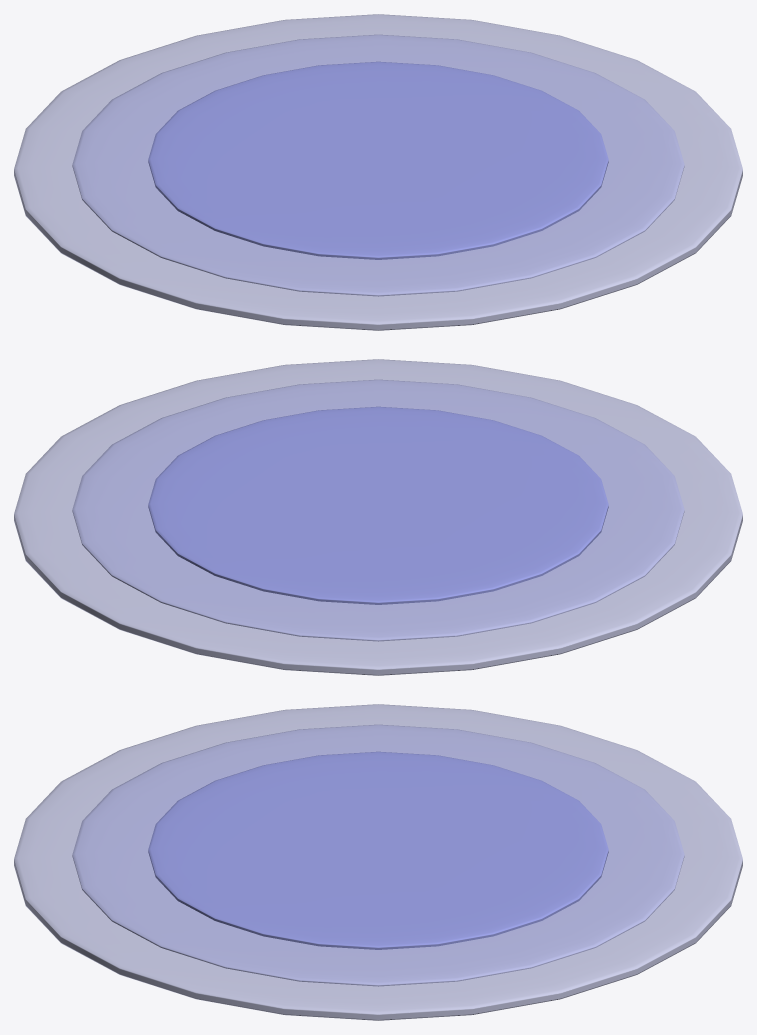
File: Rug.fbx
3 renders of one model, top to bottom at view 1: azimuth 30°, elevation 25°; view 2: azimuth 150°, elevation 25°; view 3: azimuth 270°, elevation 25°, orthographic.
Parts seen in each view (by area): view 1: pCylinder3, pCylinder1, pCylinder2; view 2: pCylinder3, pCylinder1, pCylinder2; view 3: pCylinder3, pCylinder1, pCylinder2.
Part boxes in pixels (left/top/right/bottom): pCylinder3: left=148, top=61, right=608, bottom=259; pCylinder1: left=14, top=14, right=742, bottom=330; pCylinder2: left=72, top=34, right=684, bottom=296; pCylinder3: left=148, top=406, right=608, bottom=604; pCylinder1: left=14, top=359, right=742, bottom=675; pCylinder2: left=72, top=379, right=684, bottom=641; pCylinder3: left=148, top=751, right=608, bottom=949; pCylinder1: left=14, top=704, right=742, bottom=1020; pCylinder2: left=72, top=724, right=684, bottom=986.
Bounding box in the file's own units: 49.4 × 1.56 × 49.12.
